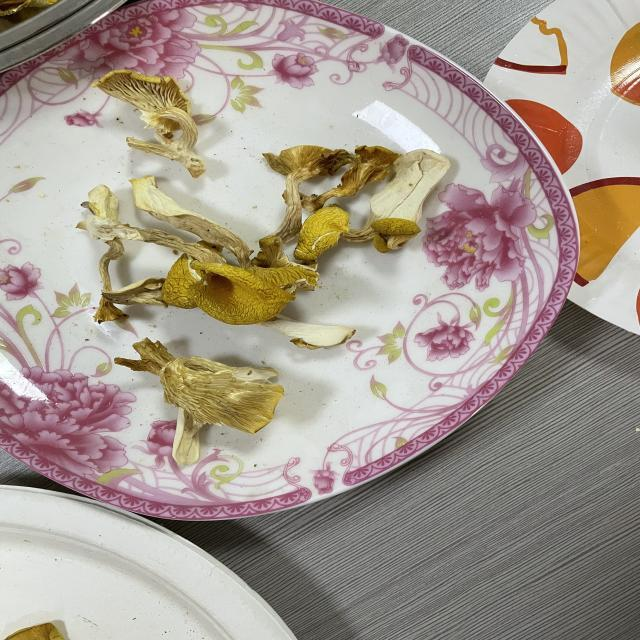Pleurotus citrinopileatus: (193, 143, 466, 423), (452, 267, 621, 394), (95, 326, 241, 407)
